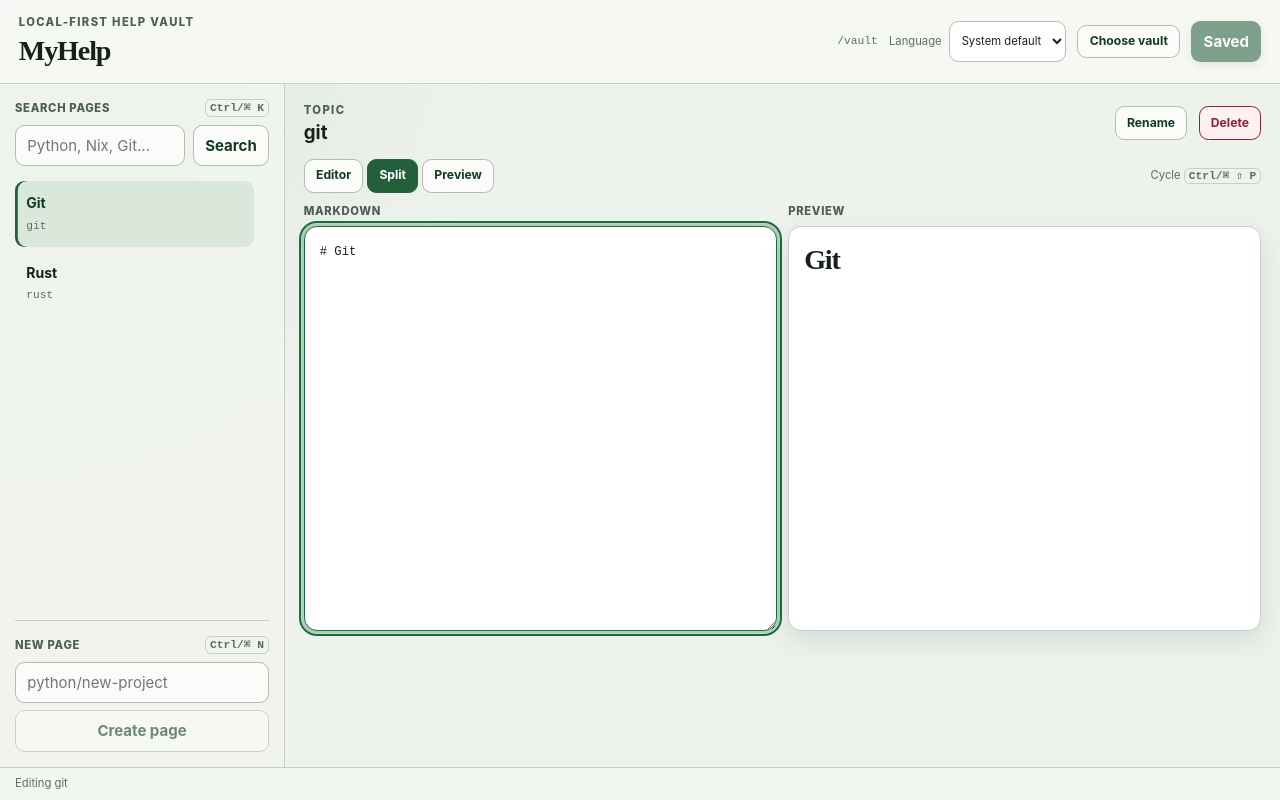
Test: desktop editor workflow › makes deletion recoverable from the editor
Check: the text box named "Edit git" is shown, box [304,226,777,630]
Click the button "Delete" at (1230,123), box [1199,106,1261,140]
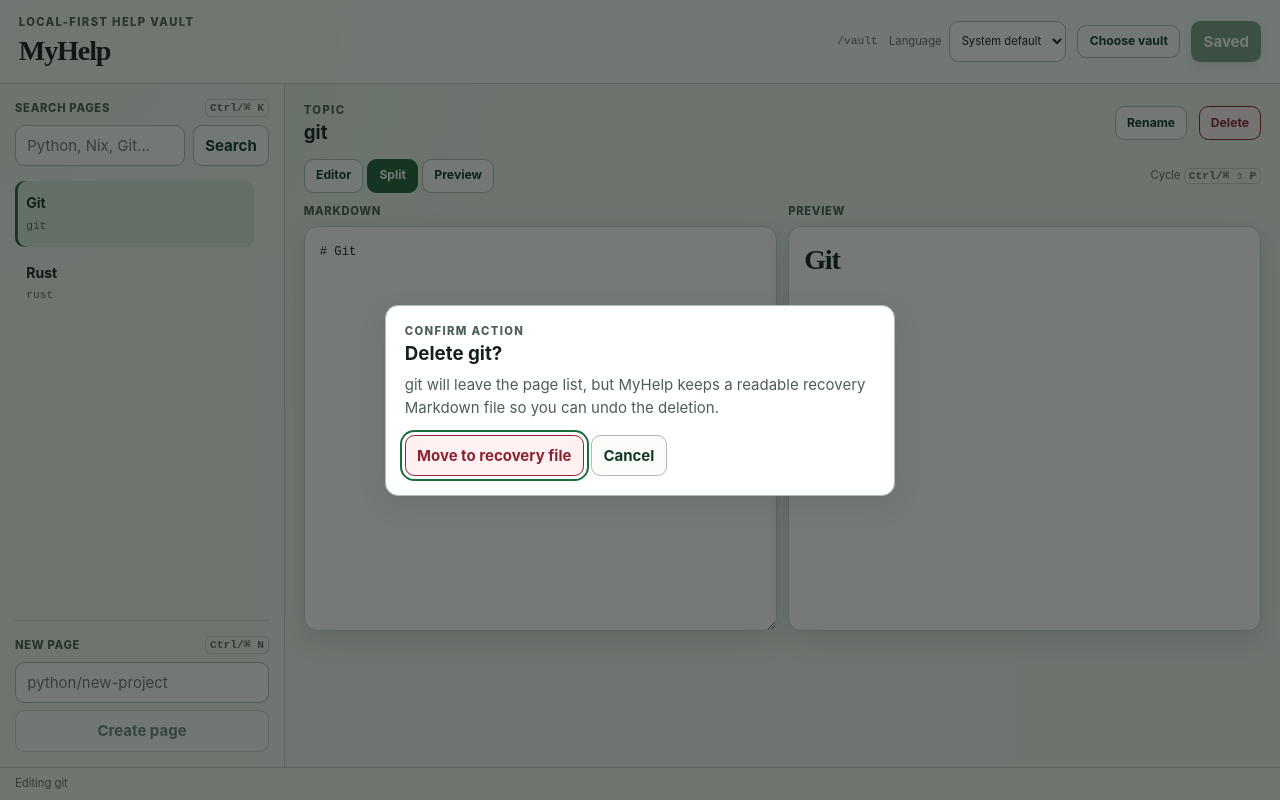
Click the button "Move to recovery file" at (494,455), box [405,434,584,476]
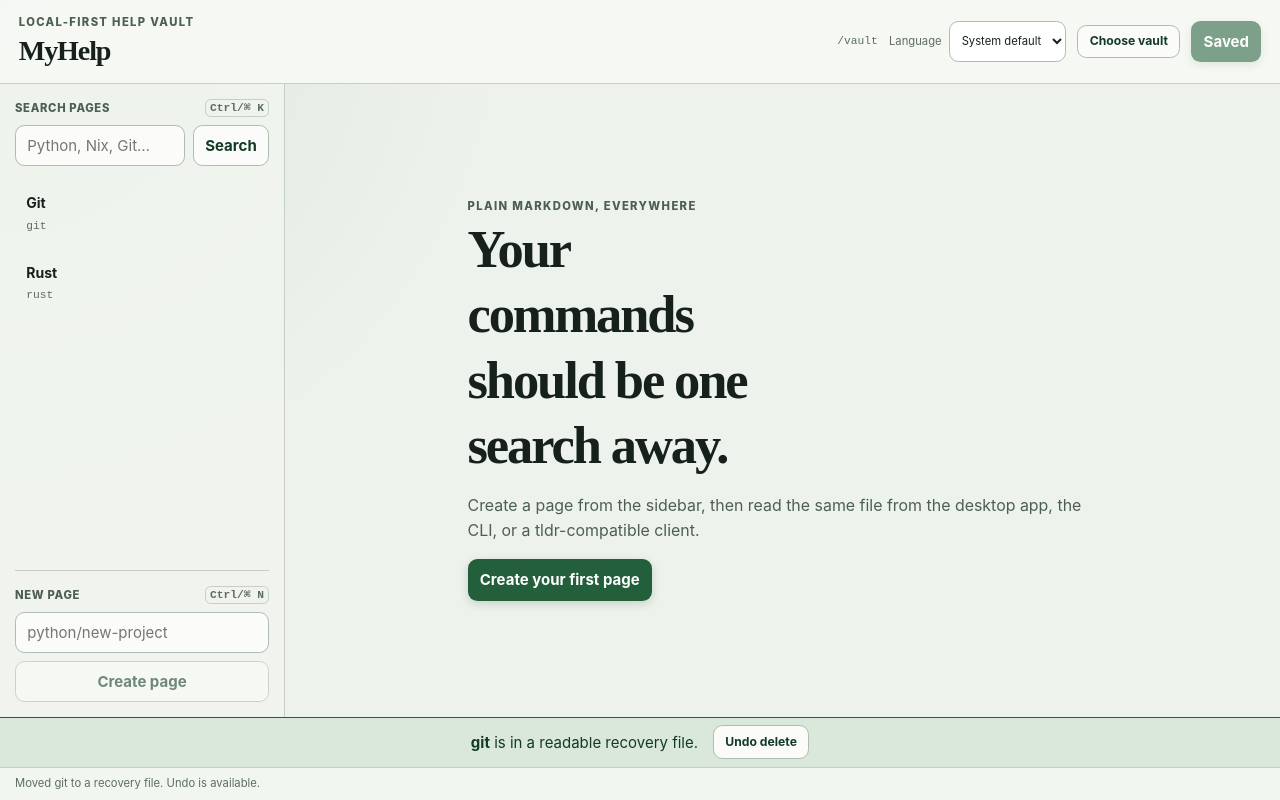
Check: the button "Undo delete" is shown
Click the button "Undo delete" at (761,742), box [713,725,809,759]
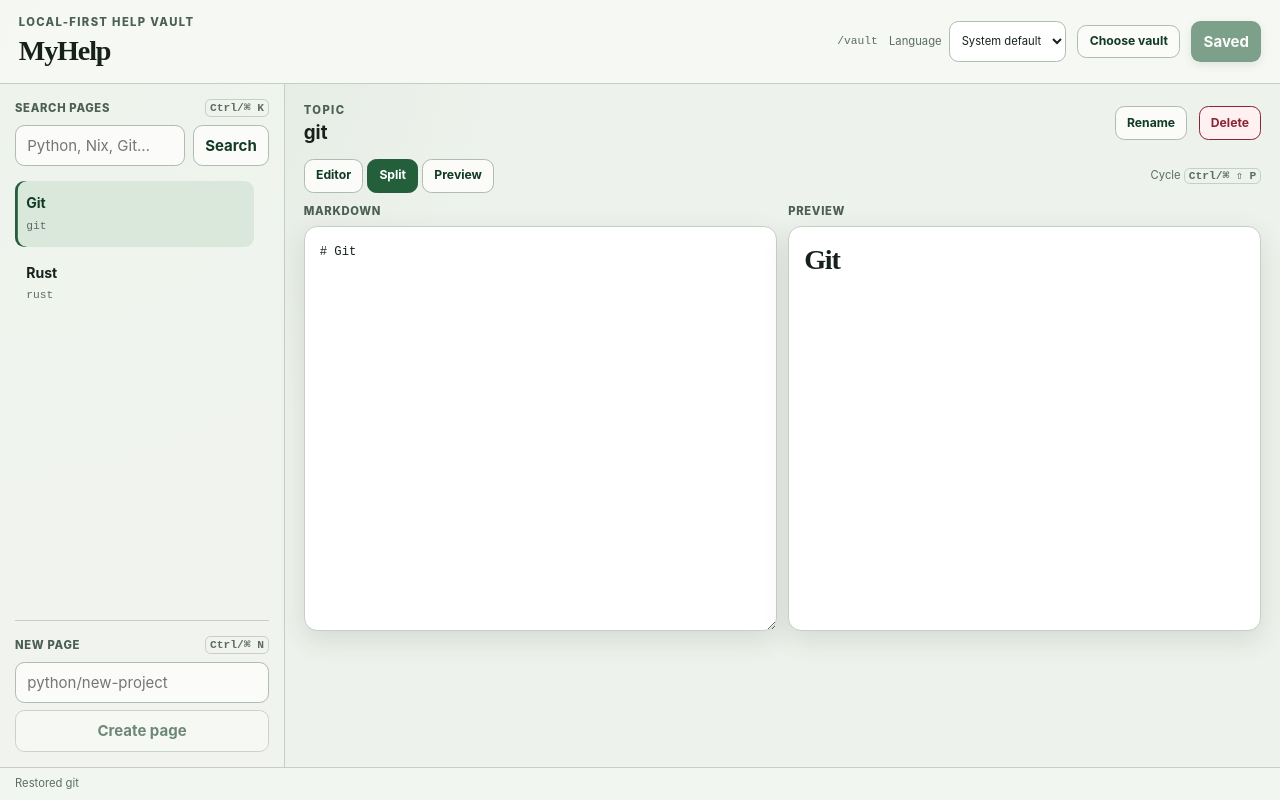
Check: the text box named "Edit git" is shown, box [304,226,777,630]
